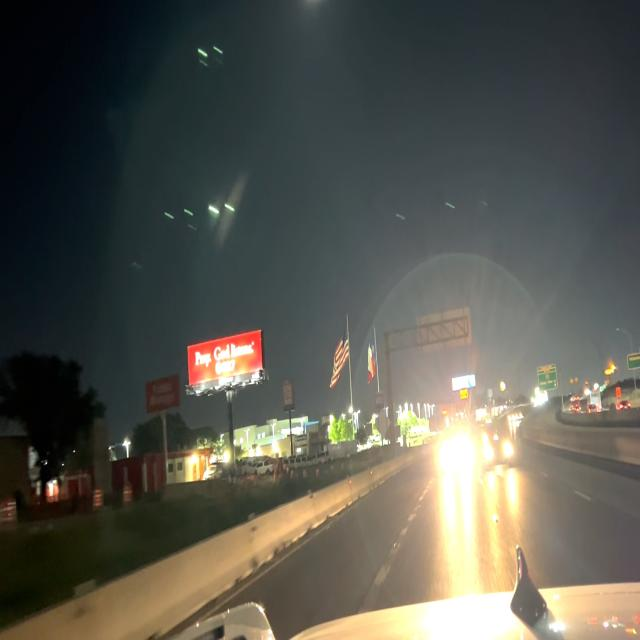back-of-sign: (414, 304, 474, 353)
